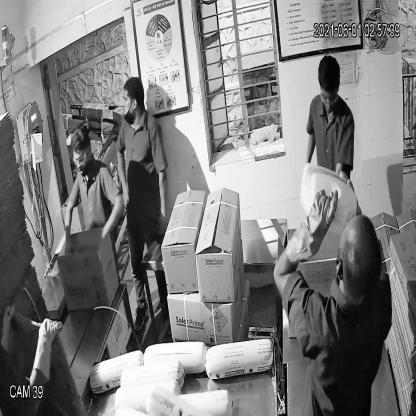goggles: (69, 147, 96, 170)
